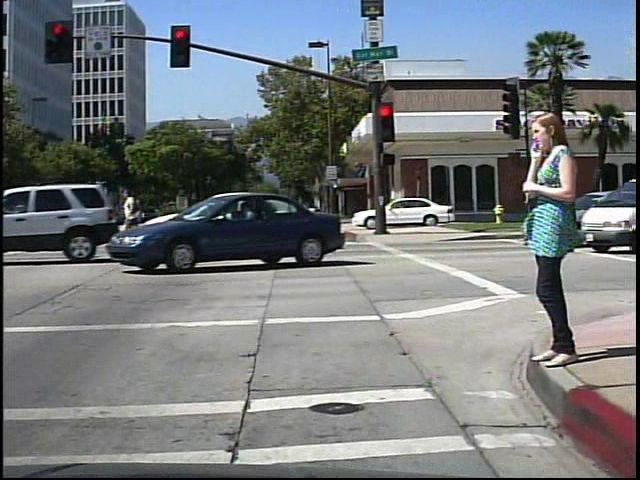person: (518, 102, 582, 377)
